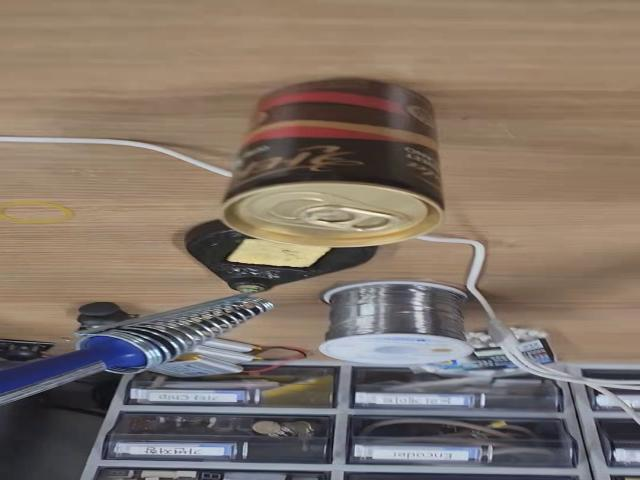Canned_drinks: (243, 82, 441, 246)
